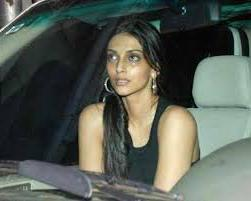Drunk: (107, 38, 147, 94)
